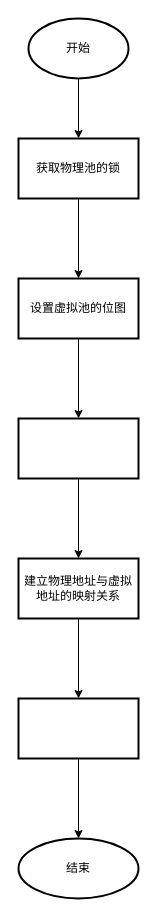
Image size: 156x916. Some labels were removed from this diagram. Here are the shapes that lost their labels. From the top down, the centre of each, then its label:
(x=78, y=448): 申请物理地址
(x=78, y=728): 解除物理池的锁
